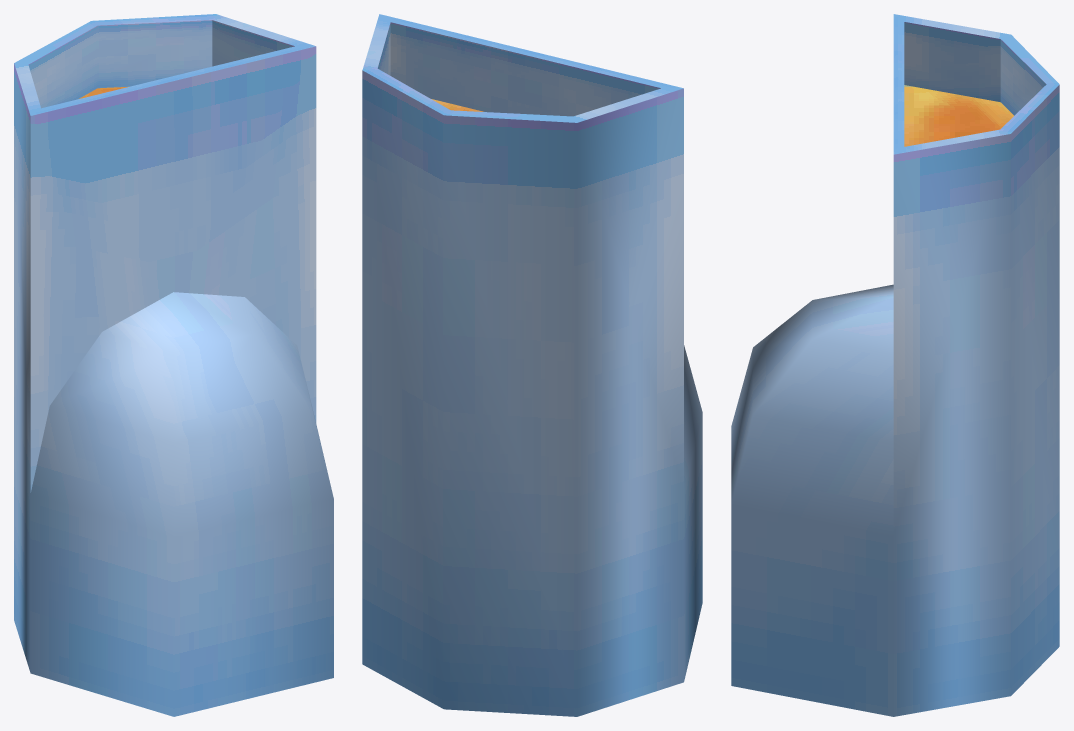
File: edb_con_glass_s2_full_l0.fbx
3 views of the same model, side by side, from view 1: azimuth 30°, elevation 25°; view 2: azimuth 150°, elevation 25°; view 3: azimuth 270°, elevation 25° (orthographic). The views are drawn at different scales.
Visible parts, largest first — view 1: mesh_node; view 2: mesh_node; view 3: mesh_node.
Boxes of the visible parts, x1,y1,x2,y2 form: mesh_node: [14, 14, 333, 716]; mesh_node: [362, 14, 702, 716]; mesh_node: [731, 14, 1059, 716].
Size of the model in its own units: 0.1073 by 0.2 by 0.1059.
Materials: 1 (1 with a texture image).
